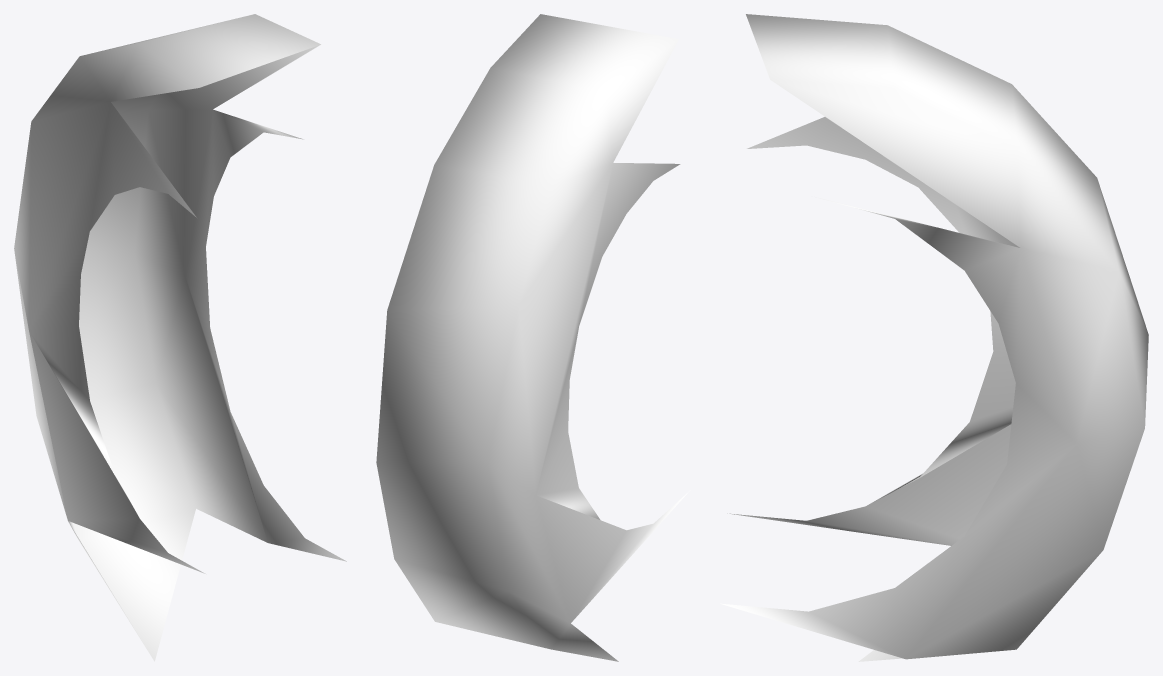
The picture shows the model from 3 angles, left to right: view 1: azimuth 30°, elevation 25°; view 2: azimuth 150°, elevation 25°; view 3: azimuth 270°, elevation 25°; orthographic projection. The views are drawn at different scales.
Bounding box in the file's own units: 0.1592 × 0.6059 × 0.3653.
Materials: 1 (1 with a texture image).
